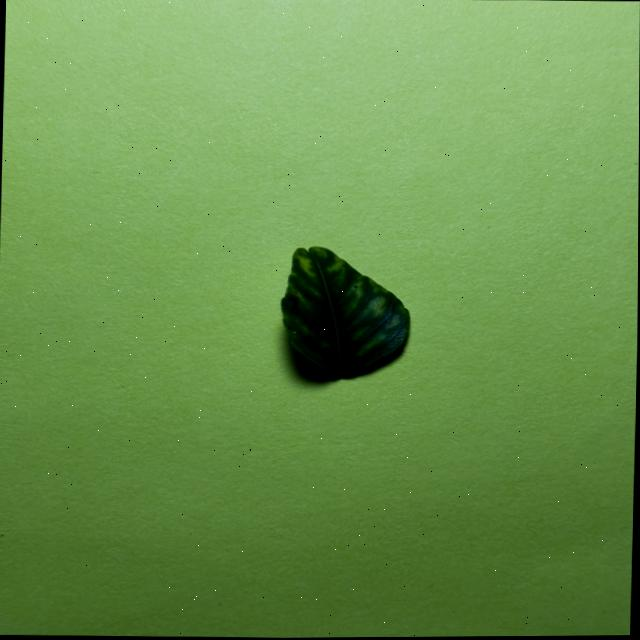greening: (281, 246, 409, 375)
